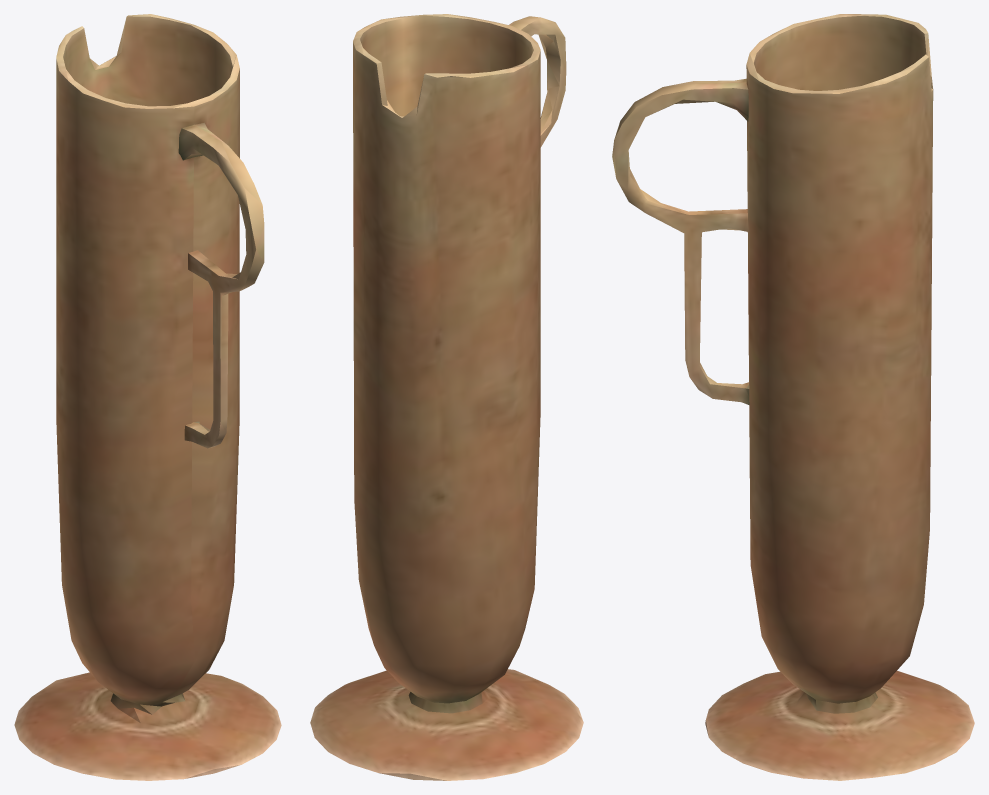
Rendered from vase-brass-b.lod1.glb.
The picture shows the model from 3 angles, left to right: view 1: azimuth 30°, elevation 25°; view 2: azimuth 150°, elevation 25°; view 3: azimuth 270°, elevation 25°; orthographic projection. The views are drawn at different scales.
Parts seen in each view (by area): view 1: vase-brass-b; view 2: vase-brass-b; view 3: vase-brass-b.
Boxes of the visible parts, bbox=[...] form: vase-brass-b: bbox=[14, 14, 281, 780]; vase-brass-b: bbox=[310, 14, 583, 780]; vase-brass-b: bbox=[612, 14, 974, 780].
Bounding box in the file's own units: 0.0612 × 0.17 × 0.0821.
1 material, 1 textured.
